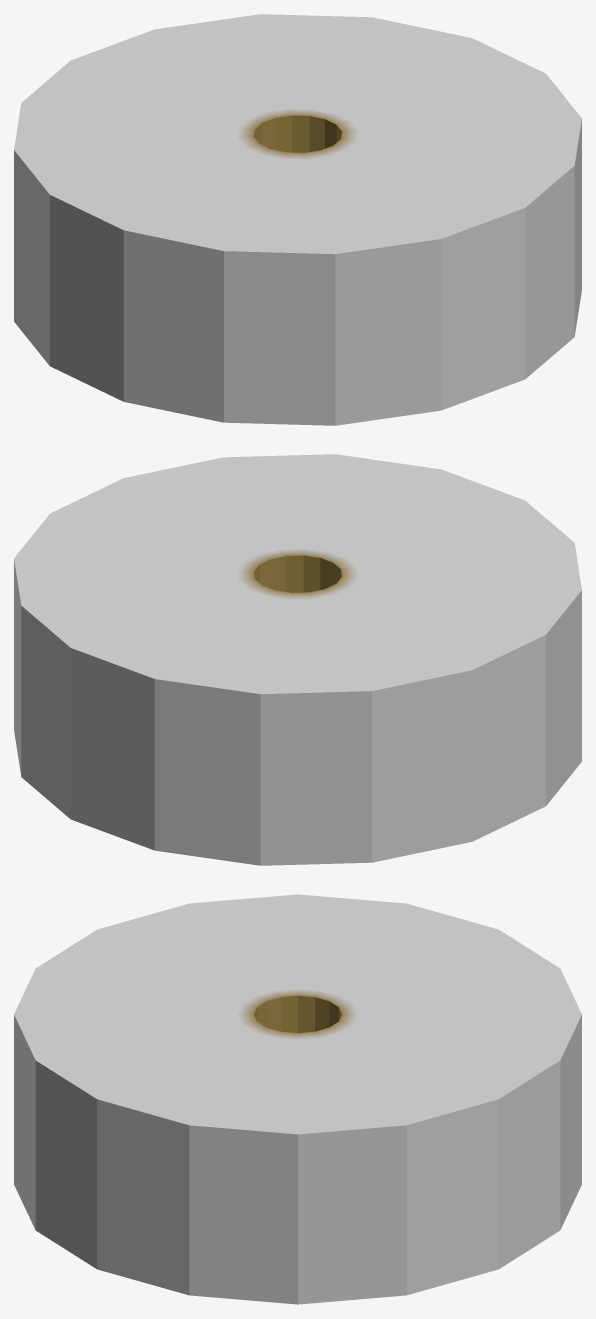
File: item_toilet_paper_mega.glb
3 renders of one model, top to bottom at view 1: azimuth 30°, elevation 25°; view 2: azimuth 150°, elevation 25°; view 3: azimuth 270°, elevation 25°, orthographic.
Parts seen in each view (by area): view 1: ToiletPaperMega; view 2: ToiletPaperMega; view 3: ToiletPaperMega.
Part boxes in pixels (box(x1,y1,x2,y2)): ToiletPaperMega: box(14, 14, 581, 425); ToiletPaperMega: box(14, 454, 581, 865); ToiletPaperMega: box(14, 894, 581, 1304).
Size of the model in its own units: 0.4293 by 0.1419 by 0.4293.
